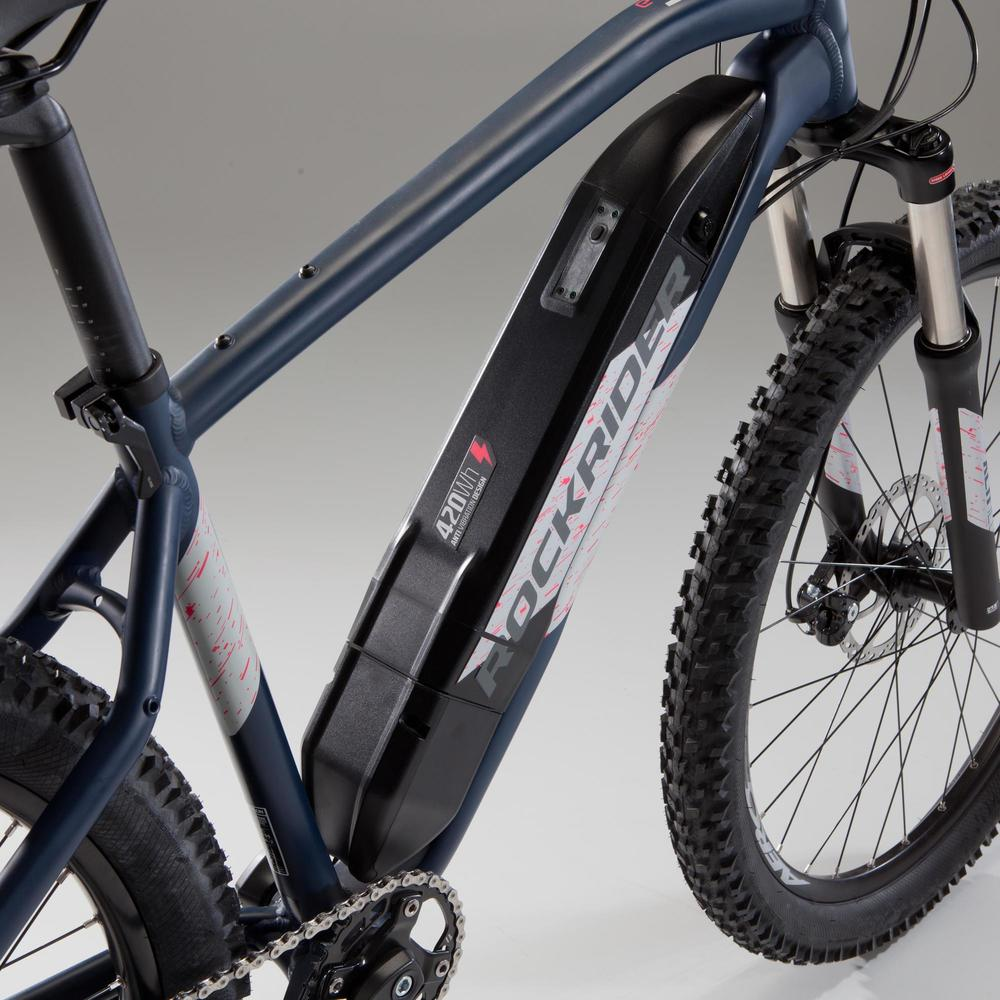MountainBike: (0, 0, 994, 992)
